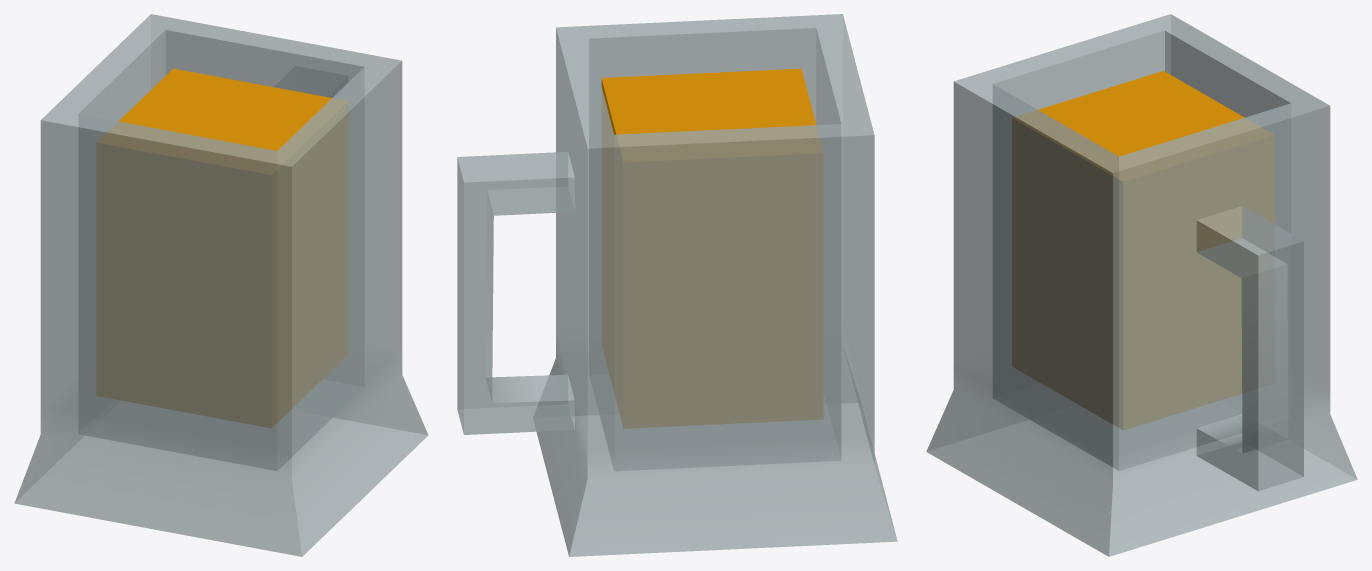
File: beer_mug.fbx
3 views of the same model, side by side, from view 1: azimuth 30°, elevation 25°; view 2: azimuth 150°, elevation 25°; view 3: azimuth 270°, elevation 25° (orthographic). The views are drawn at different scales.
Visible parts, largest first — view 1: pCube164; view 2: pCube164; view 3: pCube164.
Boxes of the visible parts, x1,y1,x2,y2 form: pCube164: (14,14,428,556); pCube164: (457,14,897,556); pCube164: (926,14,1357,556).
Bounding box in the file's own units: 85.8 × 81.66 × 85.8.
